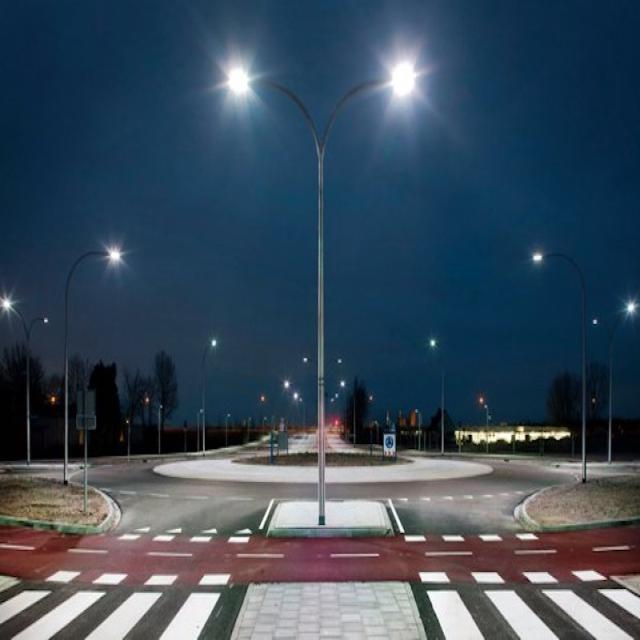Street Light: (228, 61, 414, 522), (62, 250, 121, 483), (533, 252, 586, 483), (2, 298, 31, 468), (609, 303, 635, 468), (201, 338, 217, 452), (430, 340, 444, 450), (341, 381, 356, 444)
